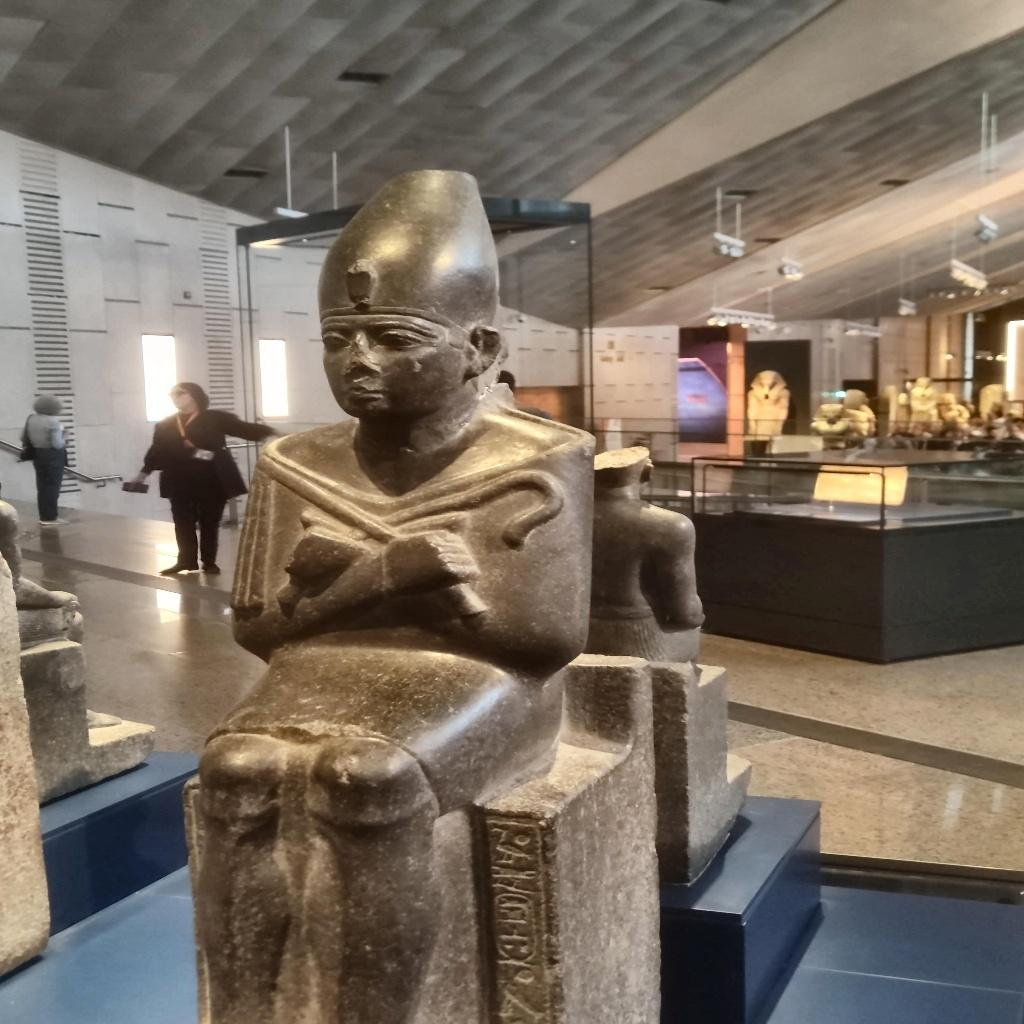Statue of Sobekhotep V: (179, 166, 604, 1020)
